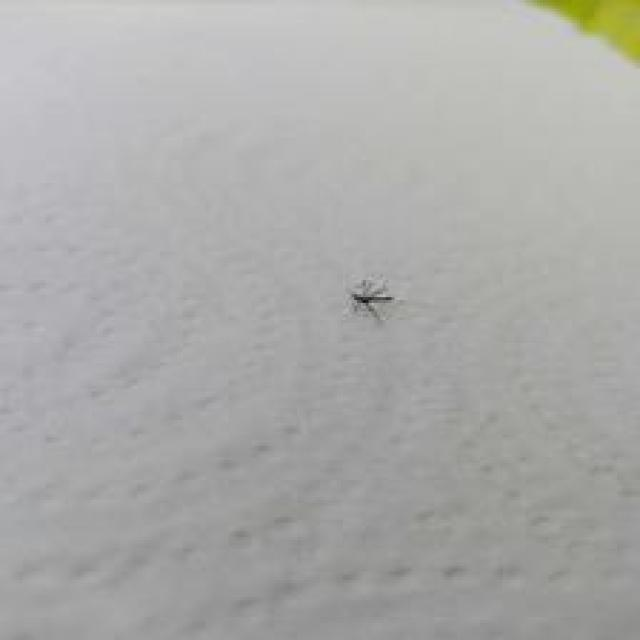Aedes albopictus: (349, 277, 394, 320)
